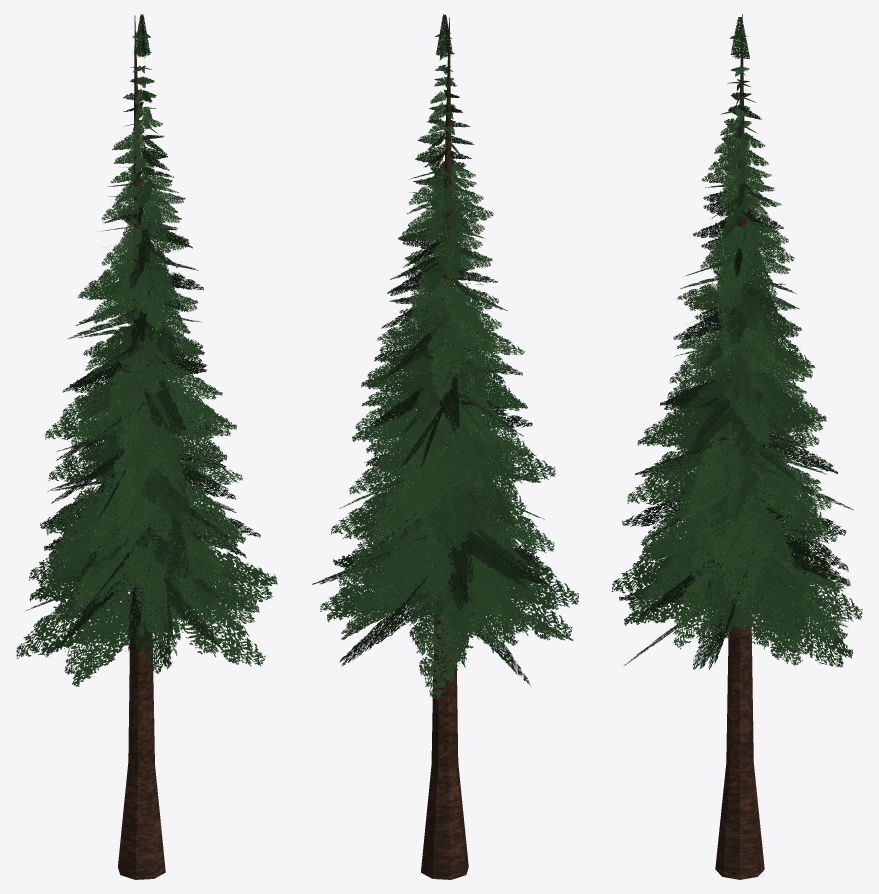
File: SM_spruce_02.fbx
3 renders of one model, left to right at view 1: azimuth 30°, elevation 25°; view 2: azimuth 150°, elevation 25°; view 3: azimuth 270°, elevation 25°, orthographic.
Parts seen in each view (by area): view 1: SM_spruce_02; view 2: SM_spruce_02; view 3: SM_spruce_02.
Part boxes in pixels (<box>): SM_spruce_02: <box>16,14,277,879</box>; SM_spruce_02: <box>312,14,578,879</box>; SM_spruce_02: <box>611,14,862,879</box>.
Size of the model in its own units: 9.38 by 32 by 8.72.
